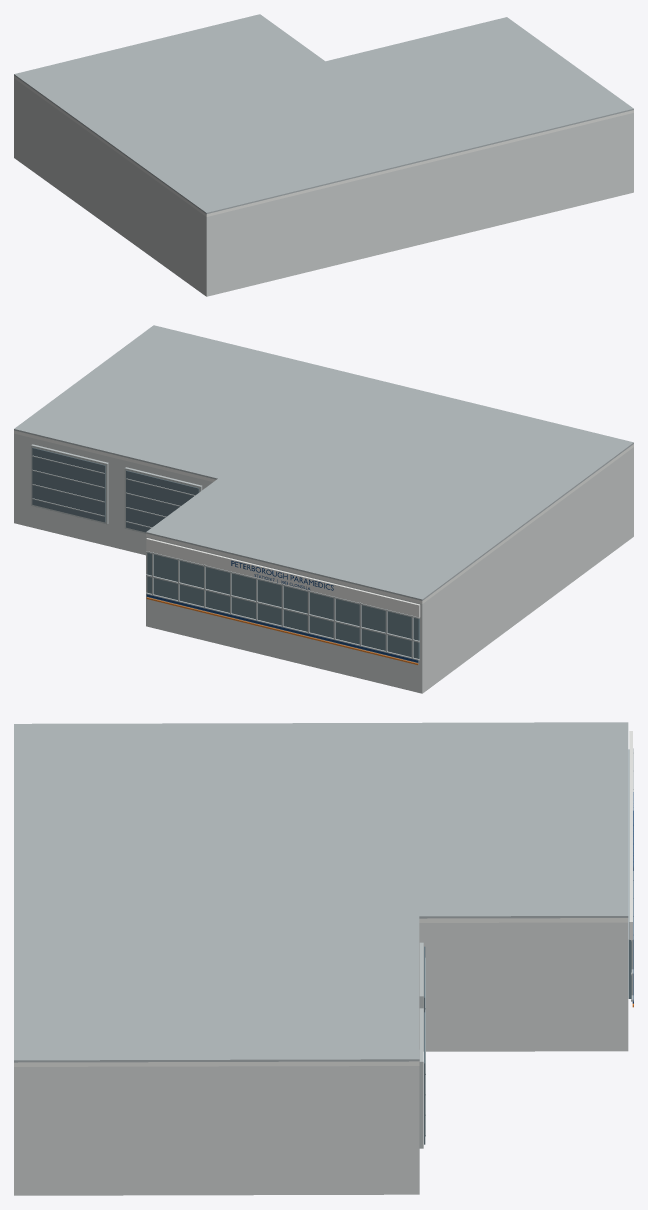
Rendered from ems-clonsilla.glb.
3 views of the same model, one above another, from view 1: azimuth 30°, elevation 25°; view 2: azimuth 150°, elevation 25°; view 3: azimuth 270°, elevation 25° (orthographic). The views are drawn at different scales.
Visible parts, largest first — view 1: EMS_Clonsilla___flat_roof_membrane, EMS_Clonsilla___light_grey_storefront_shell, EMS_Clonsilla___white_fascia_and_parapet; view 2: EMS_Clonsilla___flat_roof_membrane, EMS_Clonsilla___light_grey_storefront_shell, EMS_Clonsilla___reflective_storefront_glass, EMS_Clonsilla_estimated_bay_doors___blue_grey, EMS_Clonsilla___white_fascia_and_parapet, EMS_Clonsilla___silver_storefront_frames, EMS_EMS_identity___deep_blue, EMS_EMS_identity___orange; view 3: EMS_Clonsilla___flat_roof_membrane, EMS_Clonsilla___light_grey_storefront_shell, EMS_Clonsilla___white_fascia_and_parapet, EMS_Clonsilla___silver_storefront_frames.
Boxes of the visible parts, box(x1,y1,x2,y2) form: EMS_Clonsilla___flat_roof_membrane: box(14, 14, 633, 214); EMS_Clonsilla___light_grey_storefront_shell: box(14, 78, 633, 296); EMS_Clonsilla___white_fascia_and_parapet: box(14, 75, 633, 216); EMS_Clonsilla___flat_roof_membrane: box(14, 325, 633, 600); EMS_Clonsilla___light_grey_storefront_shell: box(14, 433, 633, 693); EMS_Clonsilla___reflective_storefront_glass: box(147, 553, 419, 658); EMS_Clonsilla_estimated_bay_doors___blue_grey: box(32, 447, 199, 532); EMS_Clonsilla___white_fascia_and_parapet: box(14, 430, 633, 617); EMS_Clonsilla___silver_storefront_frames: box(31, 444, 419, 660); EMS_EMS_identity___deep_blue: box(146, 560, 418, 662); EMS_EMS_identity___orange: box(146, 597, 418, 664); EMS_Clonsilla___flat_roof_membrane: box(14, 722, 628, 1062); EMS_Clonsilla___light_grey_storefront_shell: box(14, 922, 628, 1195); EMS_Clonsilla___white_fascia_and_parapet: box(14, 731, 632, 1066); EMS_Clonsilla___silver_storefront_frames: box(419, 748, 633, 1148).
Bounding box in the file's own units: 27.32 × 5.1 × 21.17.
